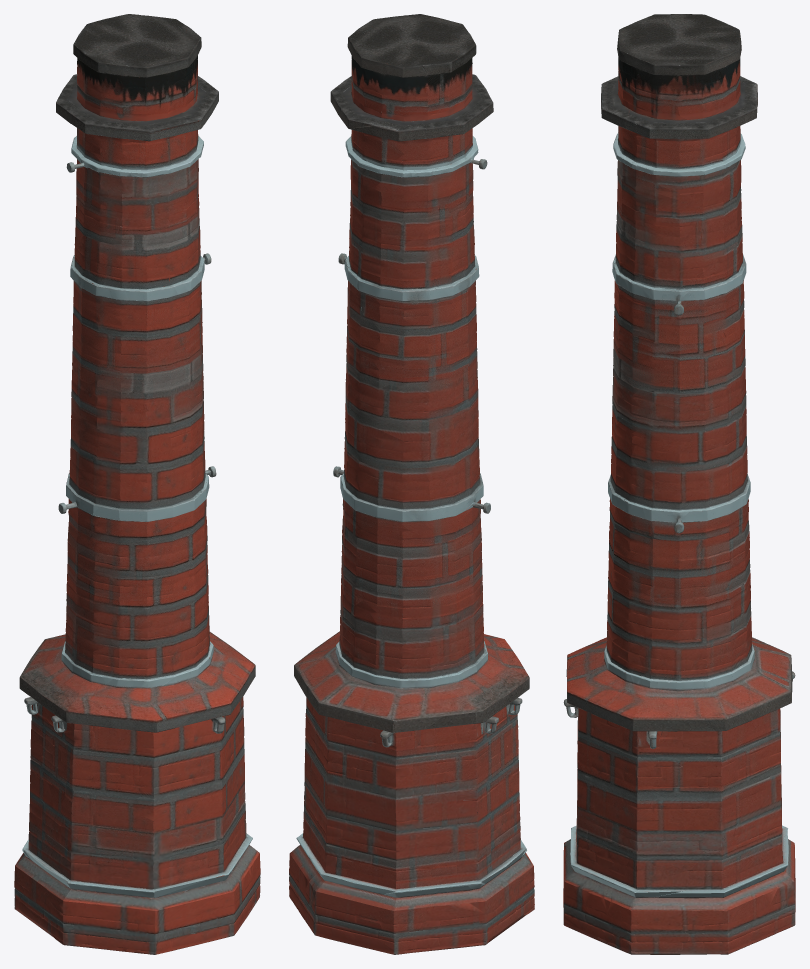
The model's file is industrial_chimney.glb.
The picture shows the model from 3 angles, left to right: view 1: azimuth 30°, elevation 25°; view 2: azimuth 150°, elevation 25°; view 3: azimuth 270°, elevation 25°; orthographic projection.
Bounding box in the file's own units: 0.4598 × 1.9 × 0.4617.
1 material, 1 textured.
